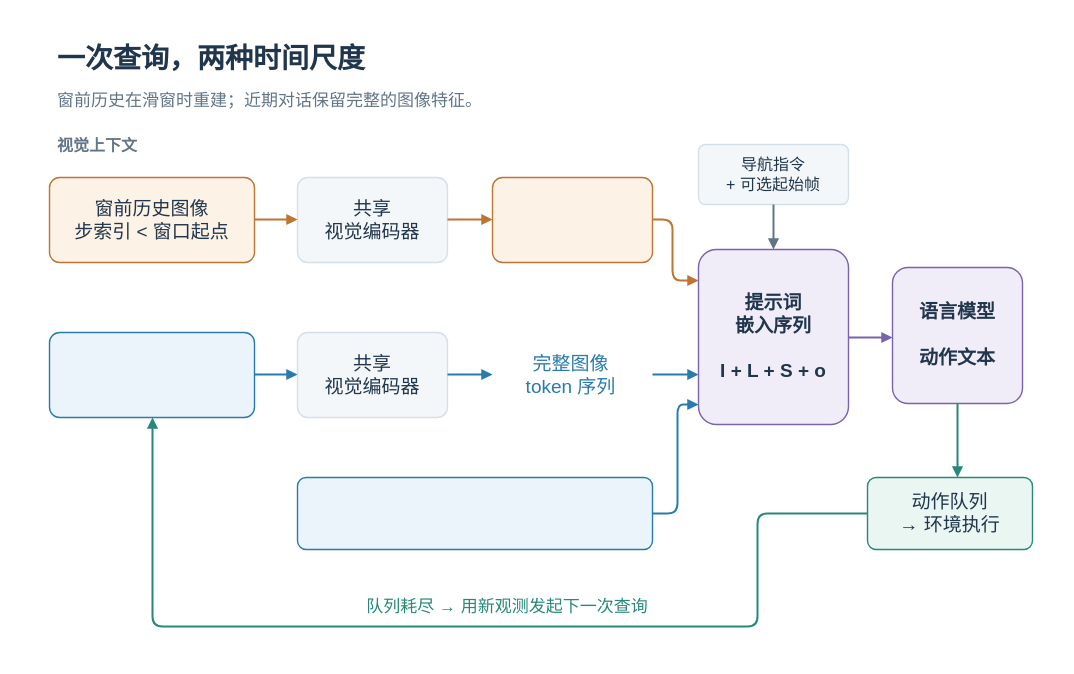
Some shapes in this 1074 by 674 pixel diagram are drawn without their labels. The centre of each missing label's shape, as x and y in pixels:
历史记忆 压缩: point (572, 219)
当前图像 每次查询输入一张: point (151, 374)
近期图像—动作对话 + 保留的重叠轮: point (474, 513)
